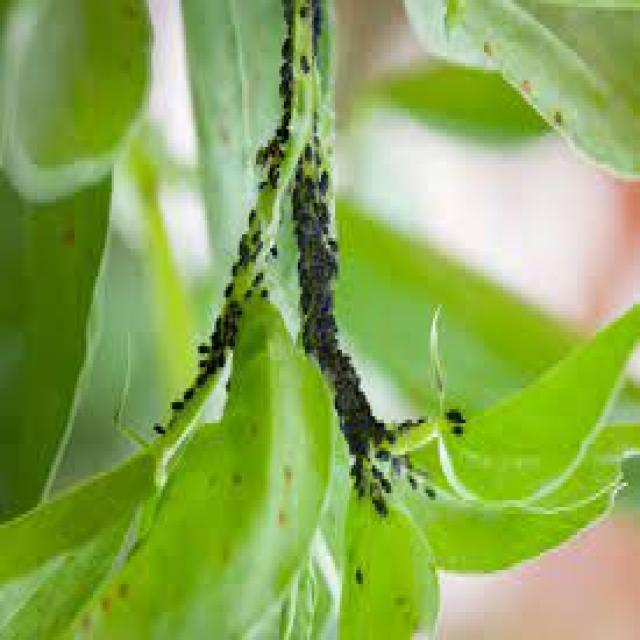aphid: (368, 444, 398, 476), (251, 283, 277, 315), (440, 402, 466, 434), (368, 493, 392, 525), (416, 482, 440, 514), (312, 311, 336, 343), (312, 356, 336, 388), (221, 259, 247, 287), (314, 168, 332, 206), (294, 287, 312, 322), (216, 280, 238, 308), (401, 472, 422, 500), (298, 140, 316, 172), (296, 49, 312, 84), (216, 374, 232, 409), (252, 175, 272, 203), (275, 59, 293, 88), (177, 384, 195, 412), (278, 38, 296, 66), (350, 566, 368, 594), (293, 4, 314, 28), (166, 395, 183, 423), (194, 339, 212, 364), (263, 242, 279, 270), (242, 207, 258, 234), (240, 287, 256, 311), (275, 126, 291, 150), (412, 413, 428, 437), (150, 423, 168, 444), (324, 238, 339, 262), (447, 423, 463, 444), (272, 147, 286, 168)
